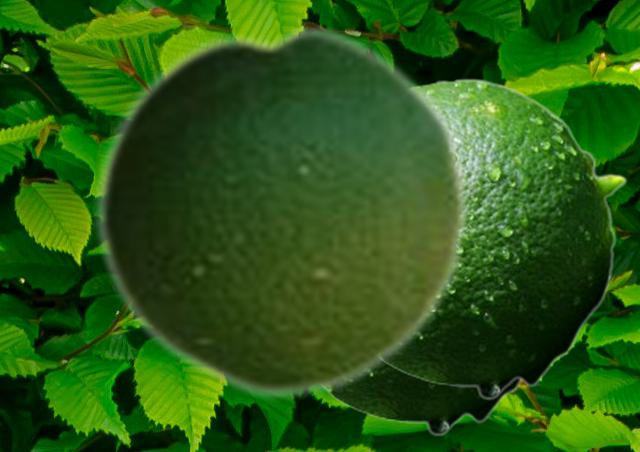dalandan: (93, 20, 470, 402), (386, 77, 626, 400), (327, 366, 522, 436)
